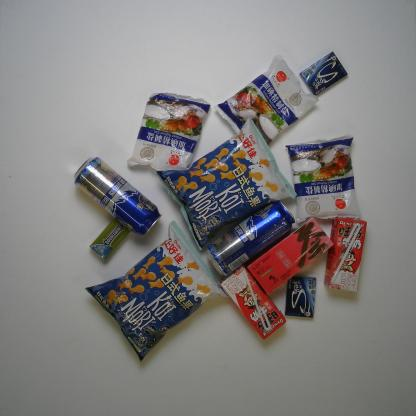Alcohol: (204, 197, 297, 277), (72, 156, 163, 236)
Gum: (298, 50, 350, 96), (88, 216, 132, 263), (283, 275, 318, 319)
Instant Drink: (245, 216, 334, 297)
Milk: (219, 263, 287, 340), (323, 216, 368, 294)
Puffed Food: (82, 220, 233, 363), (154, 115, 298, 252)
Seasoner: (214, 54, 320, 148), (126, 90, 212, 174), (284, 133, 361, 225)
